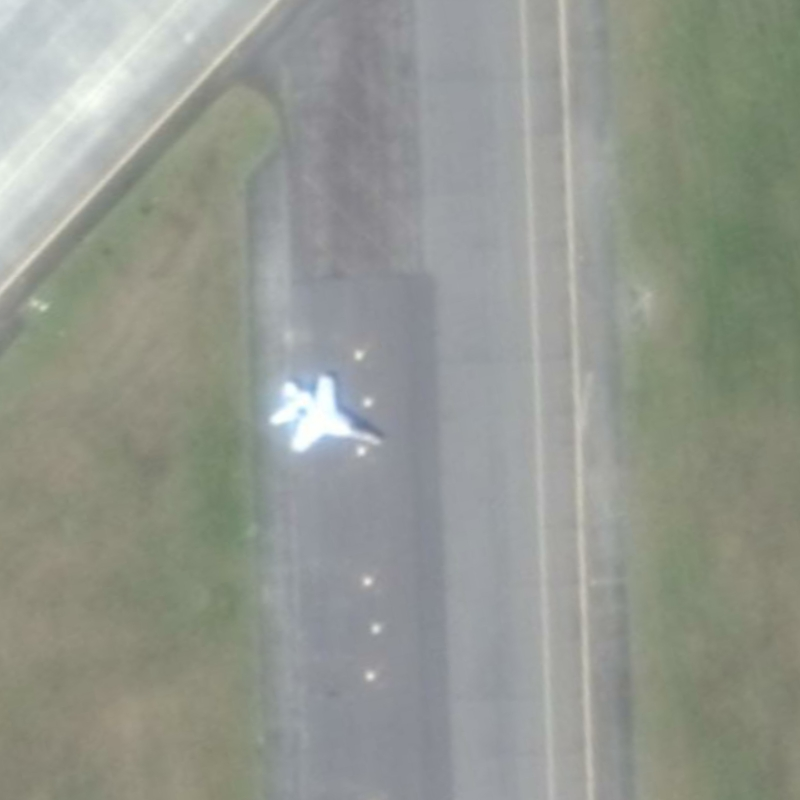A16: (264, 363, 390, 465)
